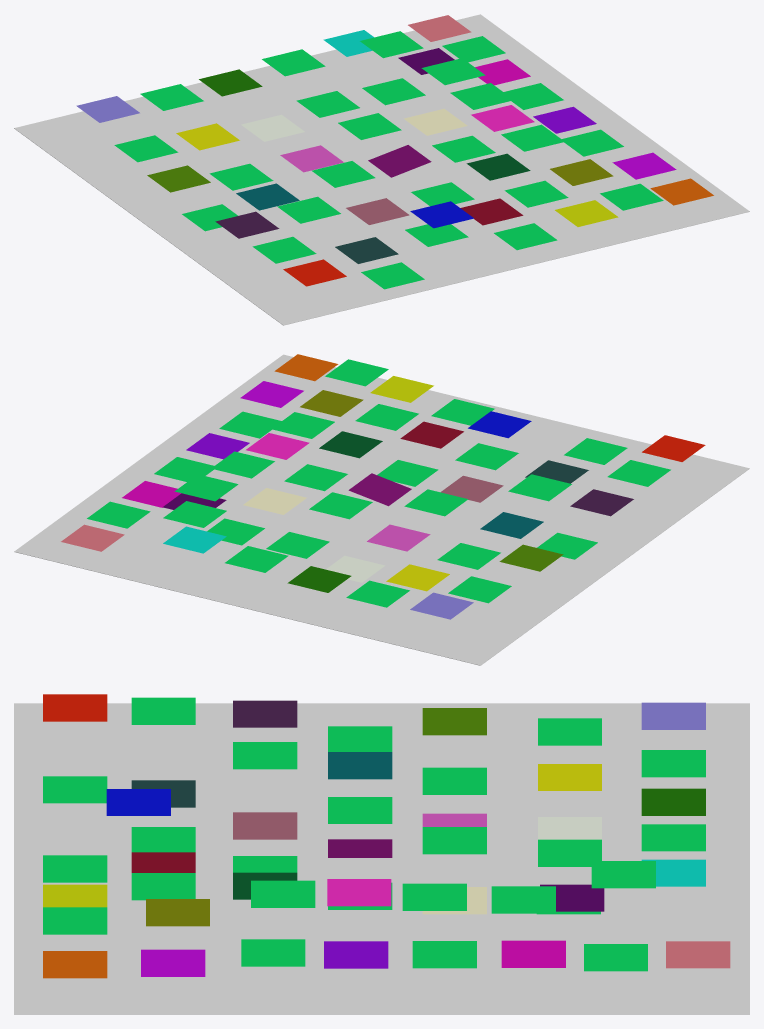
3 renders of one model, top to bottom at view 1: azimuth 30°, elevation 25°; view 2: azimuth 150°, elevation 25°; view 3: azimuth 270°, elevation 25°, orthographic. The views are drawn at different scales.
Parts seen in each view (by area): view 1: Cube, Plane_032, Plane_037, Plane_031, Plane_030, Plane_001, Plane_049, Plane_047, Plane_046, Plane_045, Plane_041, Plane_034 (+40 smaller); view 2: Cube, Plane_032, Plane_036, Plane_022, Plane_016, Plane_048, Plane_045, Plane_044, Plane_039, Plane_038, Plane_033, Plane_026 (+39 smaller); view 3: Cube, Plane_028, Plane_016, Plane_009, Plane_008, Plane_005, Plane_002, Plane_004, Plane_046, Plane_045, Plane_044, Plane_043 (+38 smaller).
Part boxes in pixels (<box>): Cube: <box>14,14,749,325</box>; Plane_032: <box>368,145,431,177</box>; Plane_037: <box>209,163,273,190</box>; Plane_031: <box>432,135,495,162</box>; Plane_030: <box>466,153,530,180</box>; Plane_001: <box>410,201,473,228</box>; Plane_049: <box>241,114,304,141</box>; Plane_047: <box>114,135,178,162</box>; Plane_046: <box>76,96,139,122</box>; Plane_045: <box>140,84,203,110</box>; Plane_041: <box>362,78,425,105</box>; Plane_034: <box>236,183,299,210</box>; Cube: <box>14,354,749,665</box>; Plane_032: <box>348,473,411,506</box>; Plane_036: <box>499,544,563,571</box>; Plane_022: <box>400,421,463,448</box>; Plane_016: <box>174,474,238,501</box>; Plane_048: <box>386,564,449,591</box>; Plane_045: <box>346,580,409,607</box>; Plane_044: <box>287,566,351,592</box>; Plane_039: <box>309,492,372,519</box>; Plane_038: <box>367,524,430,551</box>; Plane_033: <box>404,489,468,516</box>; Plane_026: <box>570,489,633,516</box>; Cube: <box>14,703,749,1014</box>; Plane_028: <box>233,812,297,839</box>; Plane_016: <box>491,886,555,913</box>; Plane_009: <box>324,941,388,968</box>; Plane_008: <box>241,939,305,966</box>; Plane_005: <box>43,907,107,934</box>; Plane_002: <box>43,855,107,882</box>; Plane_004: <box>43,694,107,721</box>; Plane_046: <box>641,702,705,729</box>; Plane_045: <box>641,750,705,777</box>; Plane_044: <box>641,788,705,815</box>; Plane_043: <box>641,824,705,851</box>.
Size of the model in its own units: 3400 by 3400 by 255.
